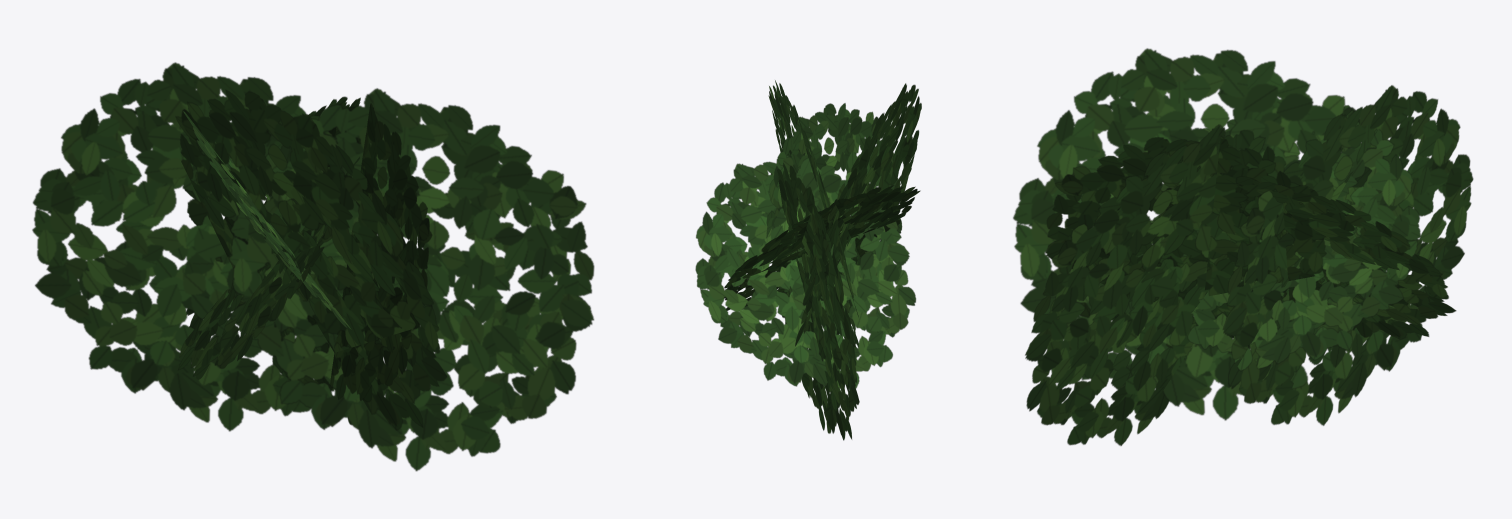
The model's file is shrub.glb.
3 renders of one model, left to right at view 1: azimuth 30°, elevation 25°; view 2: azimuth 150°, elevation 25°; view 3: azimuth 270°, elevation 25°, orthographic. The views are drawn at different scales.
Visible parts, largest first — view 1: shrub; view 2: shrub; view 3: shrub.
Part boxes in pixels (x1,y1,x2,y2): shrub: [32, 62, 594, 471]; shrub: [695, 80, 921, 440]; shrub: [1013, 48, 1473, 445].
Bounding box in the file's own units: 1.12 × 1.13 × 1.33.
Materials: 1 (1 with a texture image).
